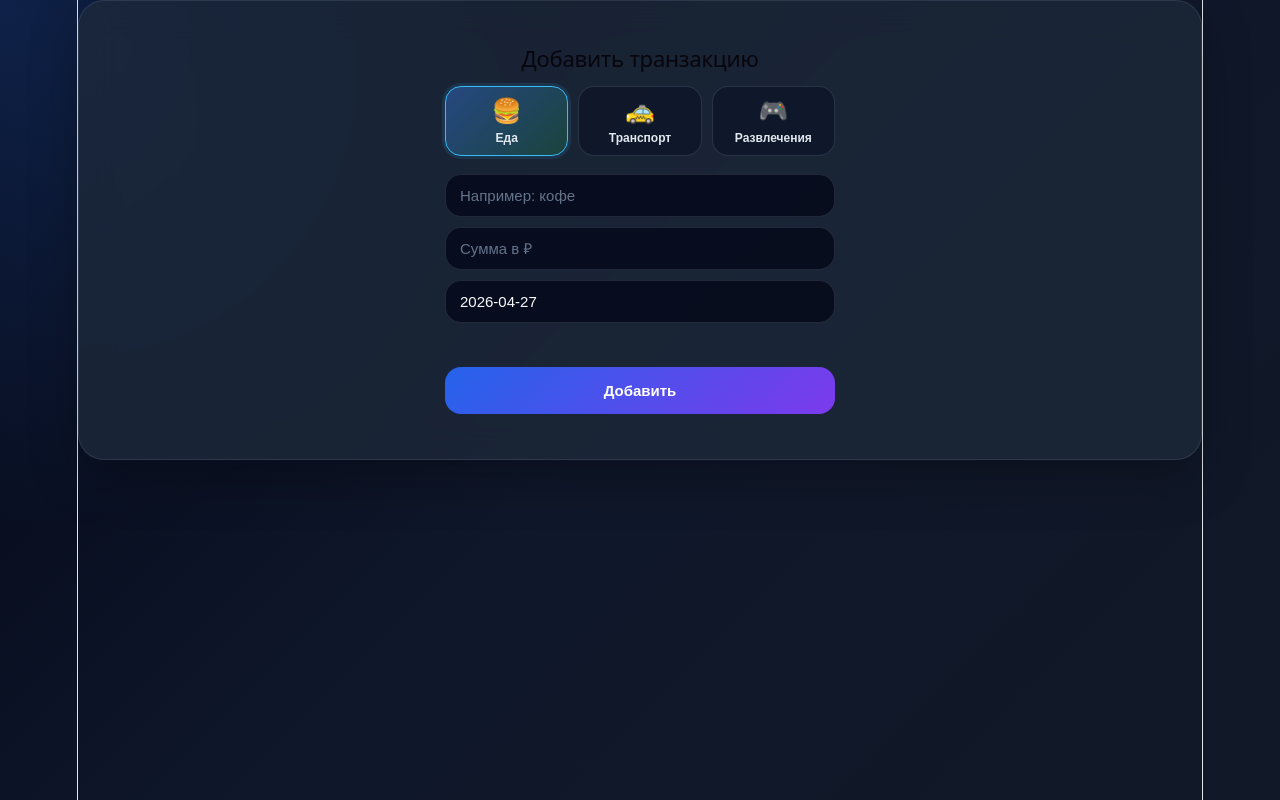
Test: AddTransaction Component › показывает ошибку, если сумма равна 0
This screenshot has width=1280, height=800.
Step 1. Type "Кофе" into the field with placeholder "Например: кофе" → (640,196), box [445,174,835,217]
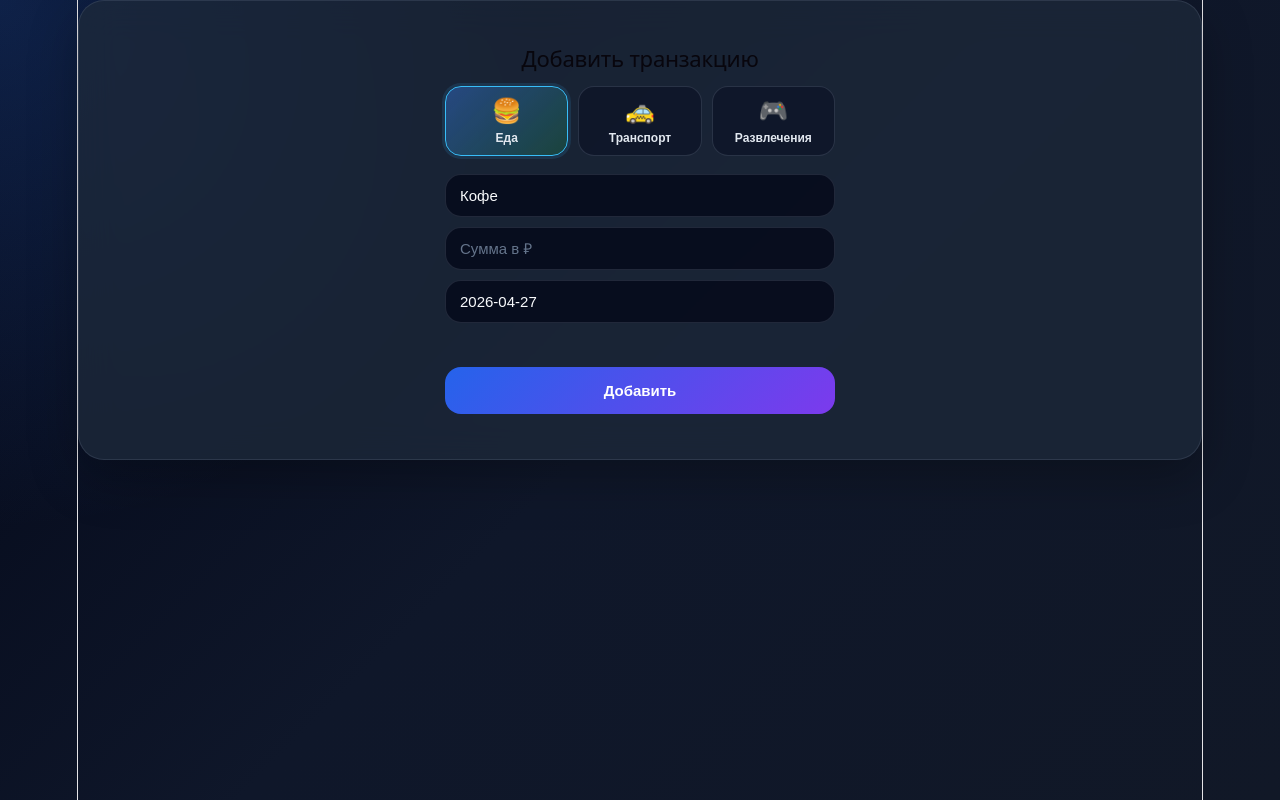
Step 2. Type "0" into the number field with placeholder "Сумма в ₽" → (640,248), box [445,227,835,270]
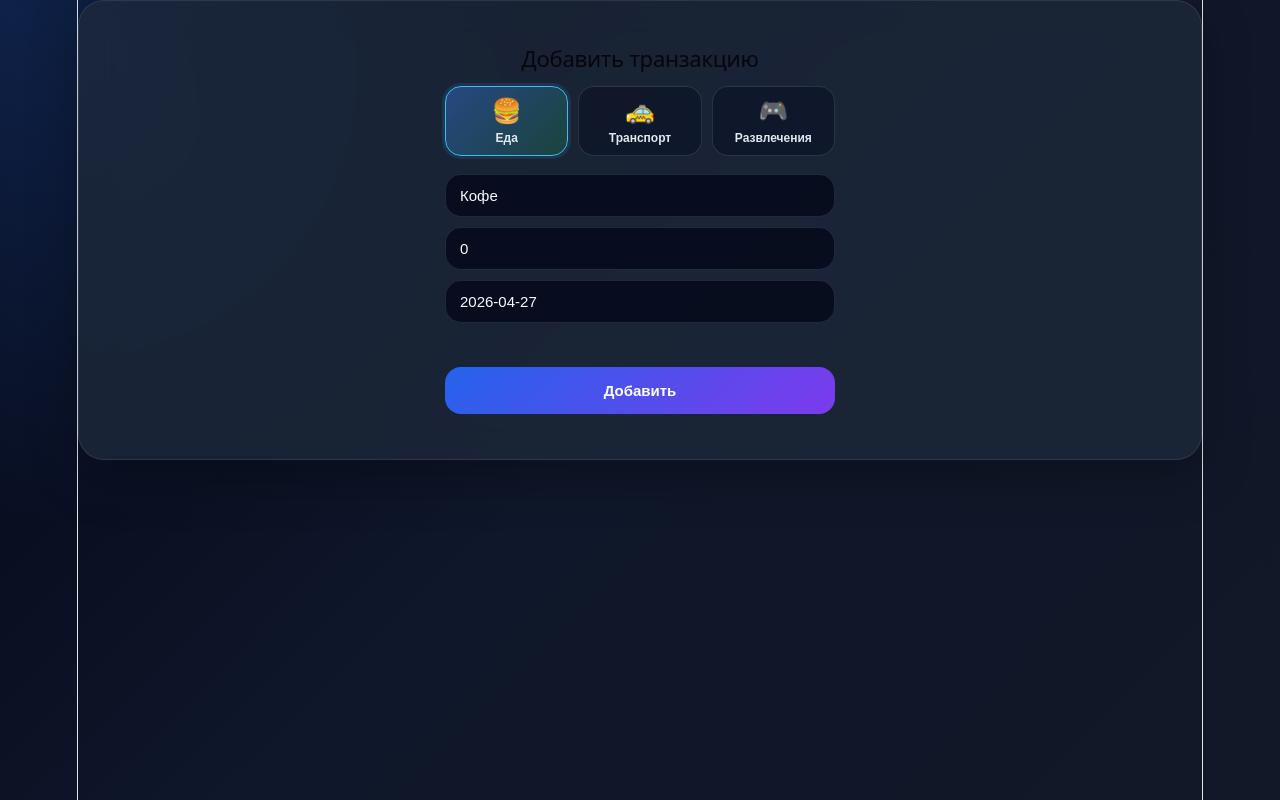
Step 3. Click the button "Добавить" → (640,390), box [445,367,835,414]
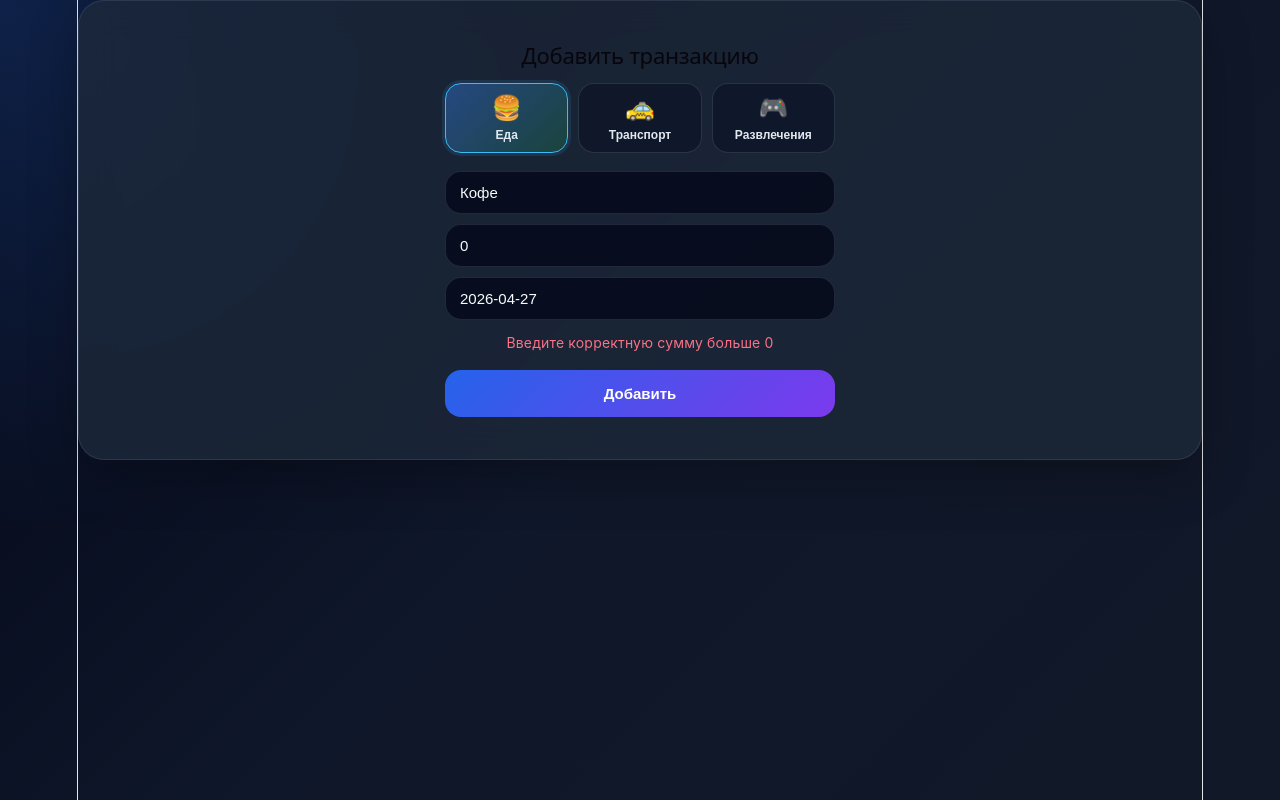
Now the text "Введите корректную сумму больше 0" is shown, box [506,334,774,351]
